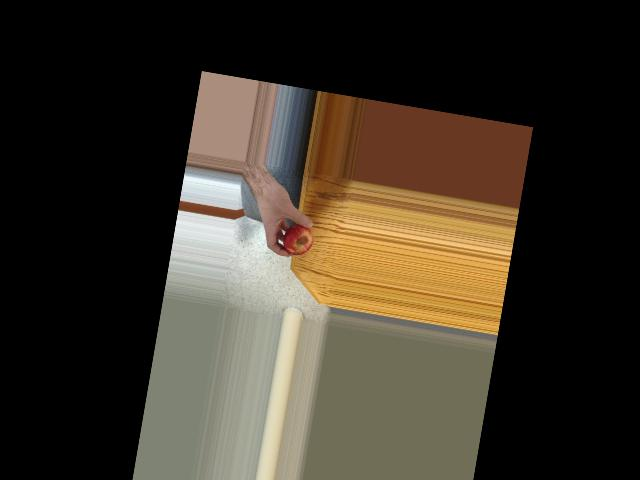apple: (280, 218, 316, 258)
